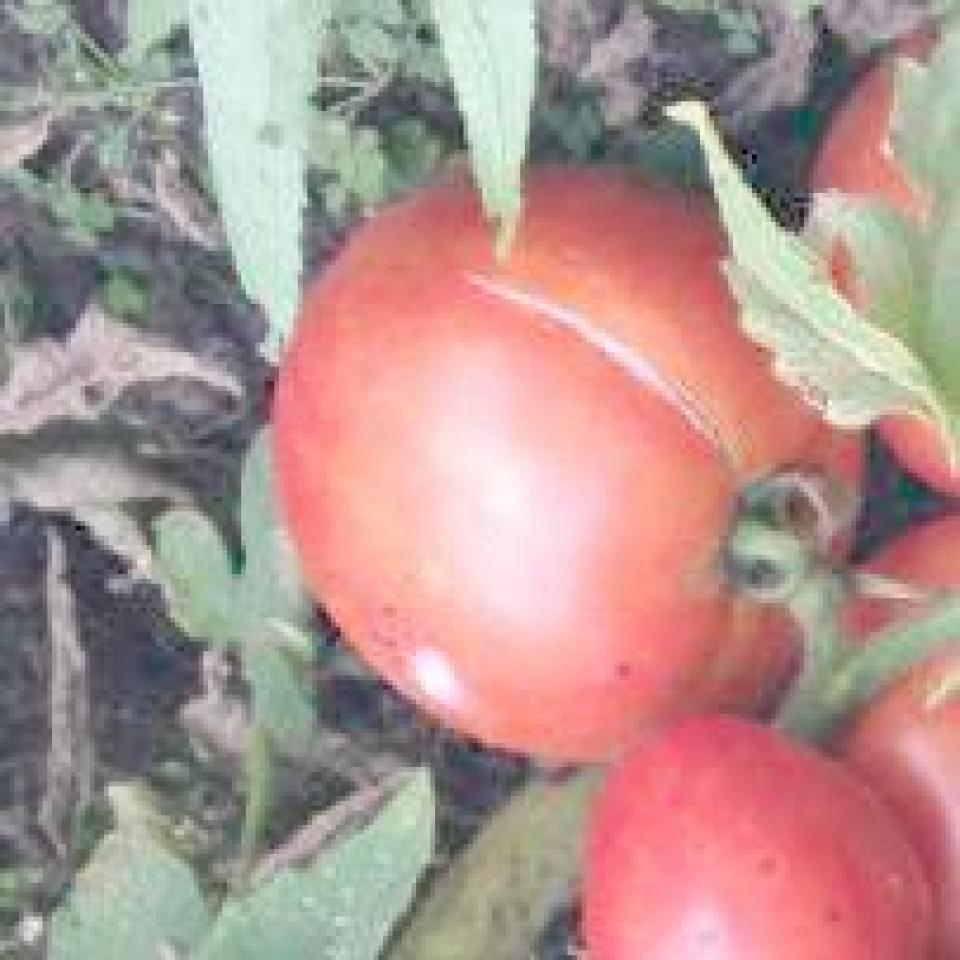Healthy: (595, 734, 932, 950)
